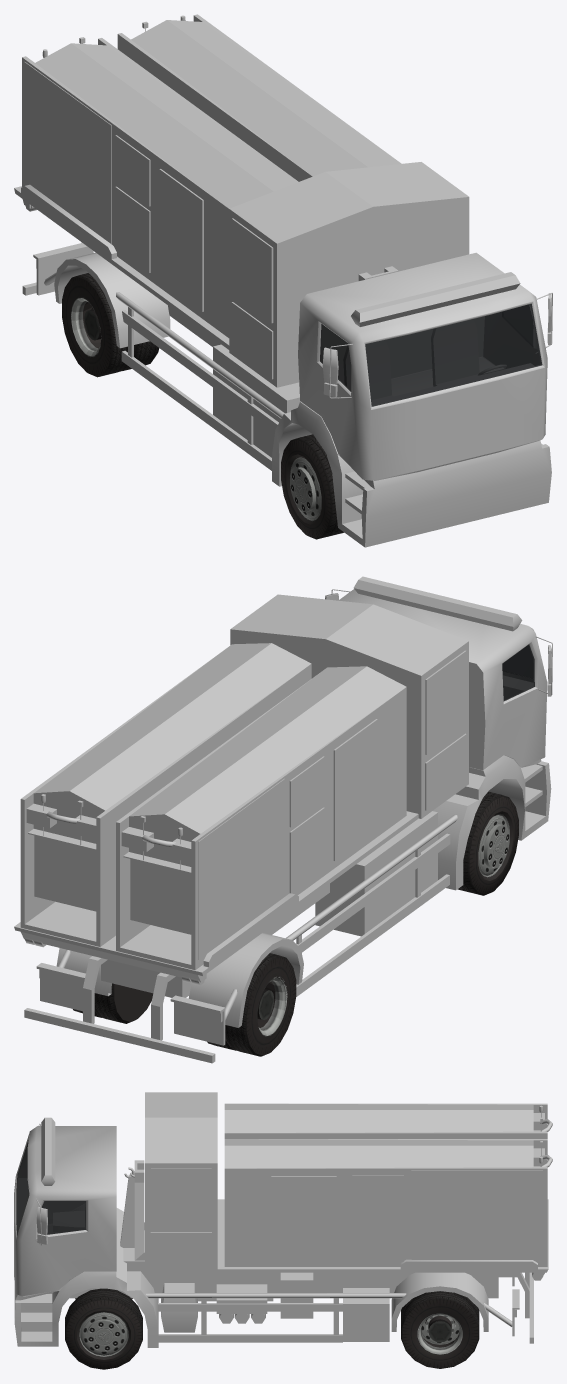
The model's file is Yuanchenggongshuiche_mol.FBX.
3 renders of one model, top to bottom at view 1: azimuth 30°, elevation 25°; view 2: azimuth 150°, elevation 25°; view 3: azimuth 270°, elevation 25°, orthographic. The views are drawn at different scales.
Visible parts, largest first — view 1: Yuanchenggongshuiche, Yuanchenggongshuiche_ncl1_1, Yuanchenggongshuiche_lunzi, Yuanchenggongshuiche_lunzi01; view 2: Yuanchenggongshuiche, Yuanchenggongshuiche_lunzi, Yuanchenggongshuiche_lunzi01, Yuanchenggongshuiche_ncl1_1; view 3: Yuanchenggongshuiche, Yuanchenggongshuiche_lunzi01, Yuanchenggongshuiche_lunzi, Yuanchenggongshuiche_ncl1_1.
Boxes of the visible parts, bbox=[...] form: Yuanchenggongshuiche: bbox=[14, 14, 552, 547]; Yuanchenggongshuiche_ncl1_1: bbox=[320, 303, 542, 406]; Yuanchenggongshuiche_lunzi: bbox=[62, 273, 159, 377]; Yuanchenggongshuiche_lunzi01: bbox=[281, 434, 343, 539]; Yuanchenggongshuiche: bbox=[14, 576, 552, 1063]; Yuanchenggongshuiche_lunzi: bbox=[73, 953, 296, 1056]; Yuanchenggongshuiche_lunzi01: bbox=[457, 791, 518, 895]; Yuanchenggongshuiche_ncl1_1: bbox=[502, 644, 534, 701]; Yuanchenggongshuiche: bbox=[14, 1092, 552, 1347]; Yuanchenggongshuiche_lunzi01: bbox=[65, 1288, 142, 1369]; Yuanchenggongshuiche_lunzi: bbox=[401, 1291, 479, 1368]; Yuanchenggongshuiche_ncl1_1: bbox=[16, 1139, 85, 1235].
Bounding box in the file's own units: 2.06 × 5.51 × 2.46.
